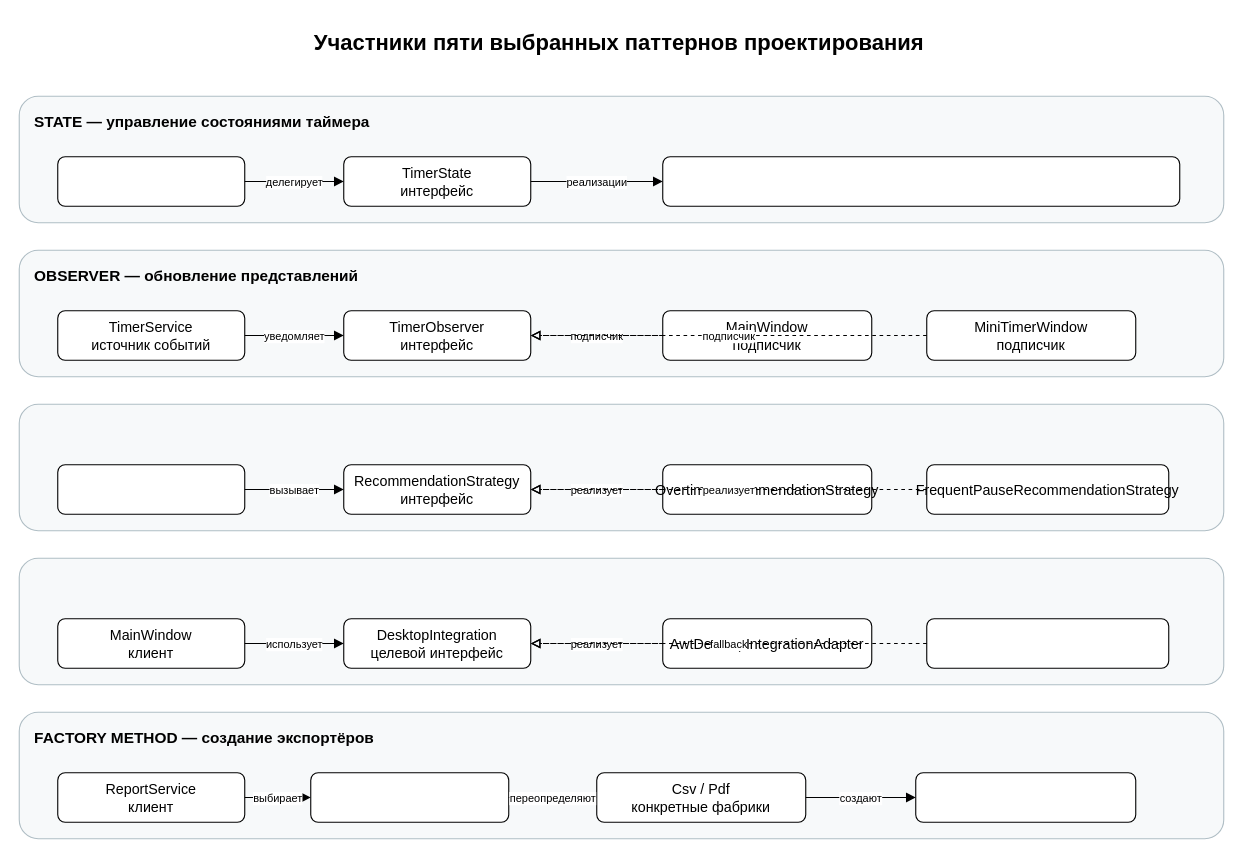
Some shapes in this 1243 by 858 pixel diagram are drawn without their labels. The shapes that lost their labels are listed below. From the top down, each one's box as (x1, y1, x2, y2) in pixels, then its label:
(57, 156, 245, 206): TimerService контекст
(662, 156, 1180, 206): IdleState · RunningState · PausedState · FinishedState
(18, 403, 1224, 531): STRATEGY — алгоритмы рекомендаций
(57, 464, 245, 514): RecommendationService контекст
(18, 557, 1224, 685): ADAPTER — интеграция с рабочим столом
(926, 618, 1169, 668): NoOpDesktopIntegration резервный вариант
(310, 772, 509, 822): ReportExporterFactory Creator
(915, 772, 1136, 822): Csv / Pdf экспортёры
